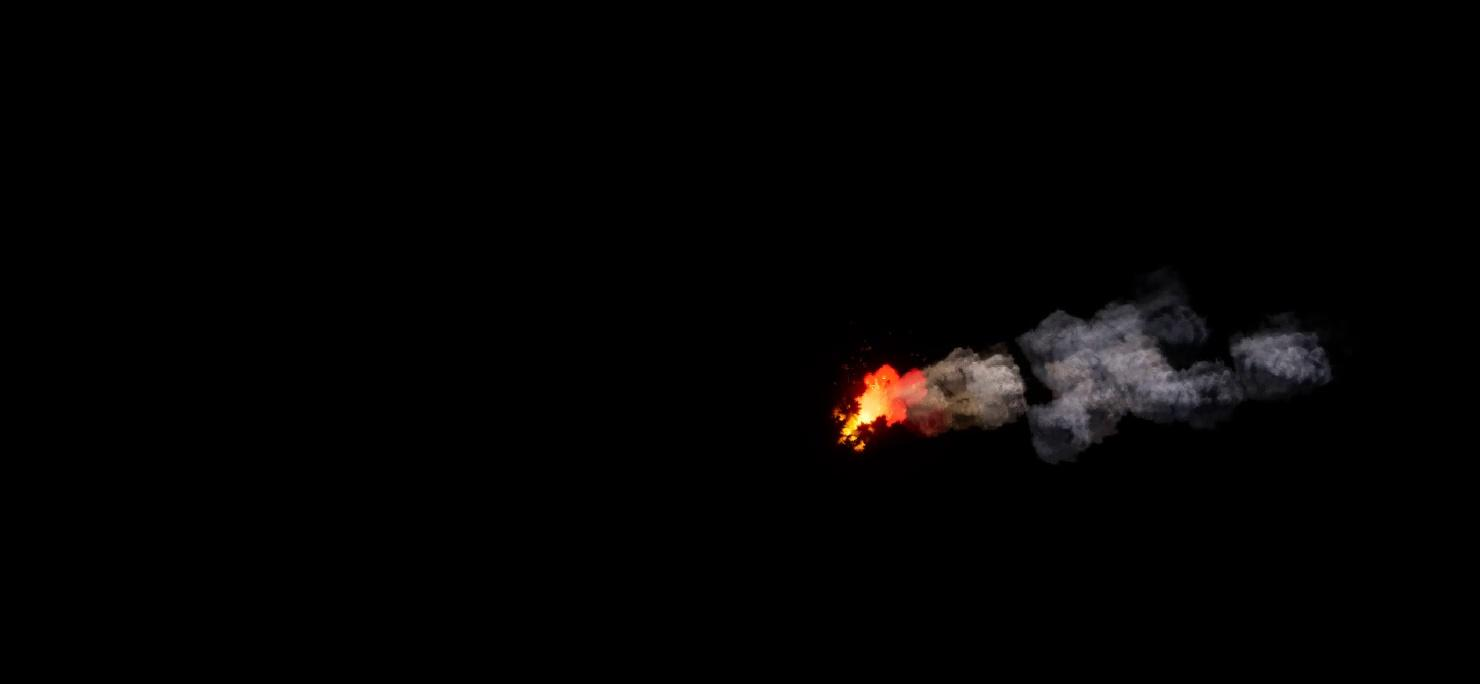fire: (836, 358, 918, 458)
smoke: (926, 301, 1329, 463)
